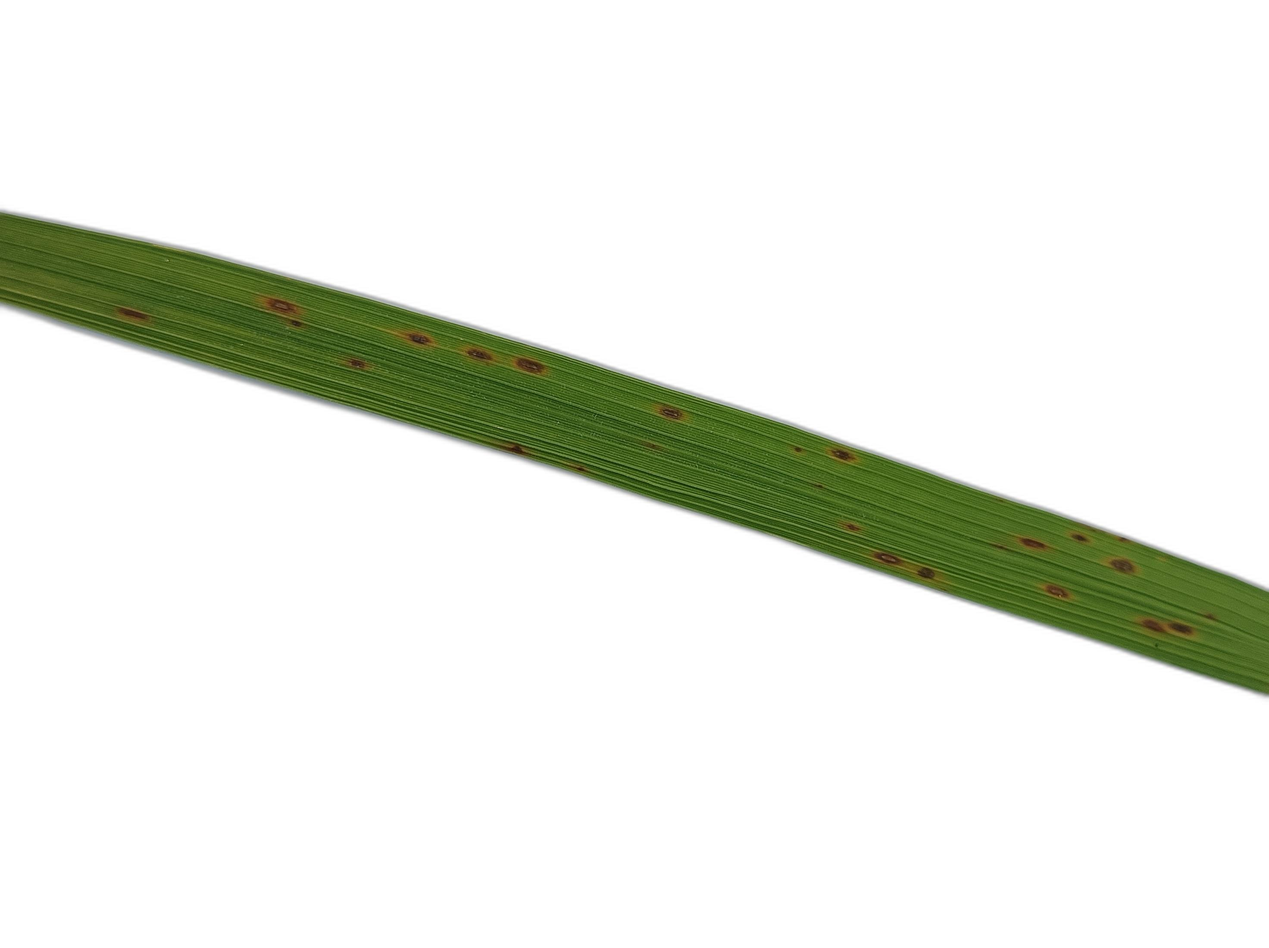LEAF: (0, 213, 1269, 695)
LEAF BLAST: (257, 296, 303, 316), (511, 356, 548, 375), (1103, 556, 1140, 574), (400, 331, 434, 349), (463, 346, 496, 363), (1040, 584, 1073, 600), (656, 404, 687, 421), (1135, 616, 1166, 633), (827, 447, 858, 463), (1018, 536, 1049, 551), (873, 551, 903, 566), (912, 565, 938, 581), (347, 358, 368, 369)
